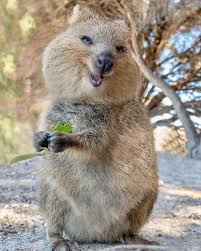quokka: (31, 5, 163, 244)
